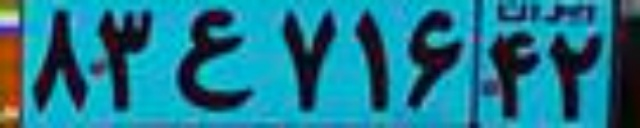1: (353, 9, 388, 109)
2: (547, 30, 604, 119)
3: (98, 8, 149, 112)
4: (488, 31, 539, 119)
6: (401, 9, 462, 108)
7: (279, 9, 340, 109)
8: (34, 9, 85, 110)
ain: (173, 9, 259, 109)
